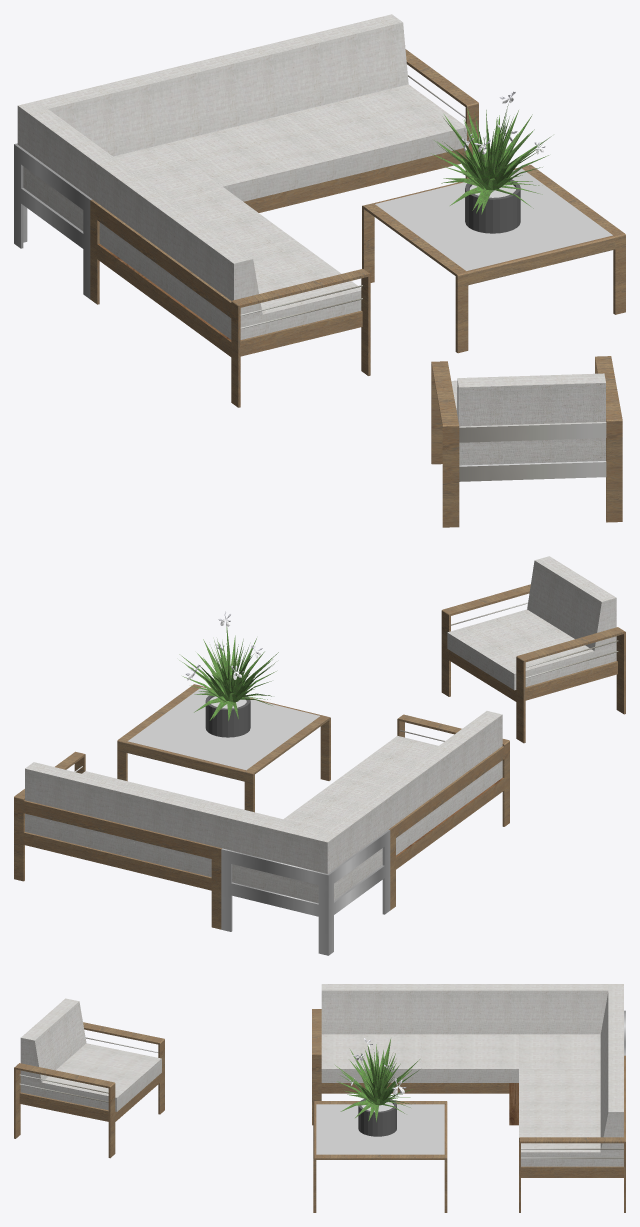
3 renders of one model, top to bottom at view 1: azimuth 30°, elevation 25°; view 2: azimuth 150°, elevation 25°; view 3: azimuth 270°, elevation 25°, orthographic. The views are drawn at different scales.
Parts seen in each view (by area): view 1: C-Component#56, C-Component#71.001, C-Component#71.002, C-Component#66.004, C-Component#66, C-Component#71, C-Component#60, C-Component#65, C-Component#66.002, C-Component#52, C-Component#71.003, C-Component#44 (+17 smaller); view 2: C-Component#64, C-Component#56, C-Component#68, C-Component#43, C-Component#60, C-Component#65, C-Component#66, C-Component#66.004, C-Component#71, C-moreia, C-Component#71.003, C-Component#44 (+17 smaller); view 3: C-Component#56, C-Component#64, C-Component#66.002, C-Component#66.001, C-Component#71.003, C-Component#71.001, C-Component#66.003, C-Component#71, C-Component#71.002, C-Component#60, C-Component#70, C-moreia (+15 smaller).
Boxes of the visible parts, x1,y1,x2,y2 form: C-Component#56: (375, 168, 612, 270); C-Component#71.001: (287, 84, 466, 176); C-Component#71.002: (165, 114, 344, 201); C-Component#66.004: (270, 14, 408, 113); C-Component#66: (148, 44, 286, 143); C-Component#71: (163, 238, 361, 339); C-Component#60: (456, 373, 605, 445); C-Component#65: (17, 74, 164, 174); C-Component#66.002: (163, 207, 262, 319); C-Component#52: (459, 422, 606, 481); C-Component#71.003: (99, 186, 292, 289); C-Component#44: (97, 204, 231, 356); C-Component#64: (447, 609, 616, 690); C-Component#56: (128, 687, 319, 770); C-Component#68: (221, 829, 390, 955); C-Component#43: (23, 800, 212, 890); C-Component#60: (527, 556, 616, 650); C-Component#65: (222, 810, 340, 886); C-Component#66: (123, 786, 230, 860); C-Component#66.004: (25, 762, 132, 839); C-Component#71: (340, 736, 502, 819); C-moreia: (179, 611, 278, 720); C-Component#71.003: (283, 777, 445, 855); C-Component#44: (394, 746, 504, 869); C-Component#56: (316, 1104, 444, 1154); C-Component#64: (20, 1043, 161, 1111); C-Component#66.002: (321, 984, 420, 1034); C-Component#66.001: (420, 984, 518, 1034); C-Component#71.003: (420, 1034, 518, 1082); C-Component#71.001: (519, 1110, 623, 1166); C-Component#66.003: (519, 984, 608, 1034); C-Component#71: (321, 1034, 420, 1082); C-Component#71.002: (519, 1069, 600, 1110); C-Component#60: (20, 998, 86, 1082); C-Component#70: (519, 1034, 600, 1068); C-moreia: (335, 1038, 419, 1121).
Bounding box in the file's own units: 2.11 × 1.1 × 4.12.
Materials: 11 (6 with a texture image).
